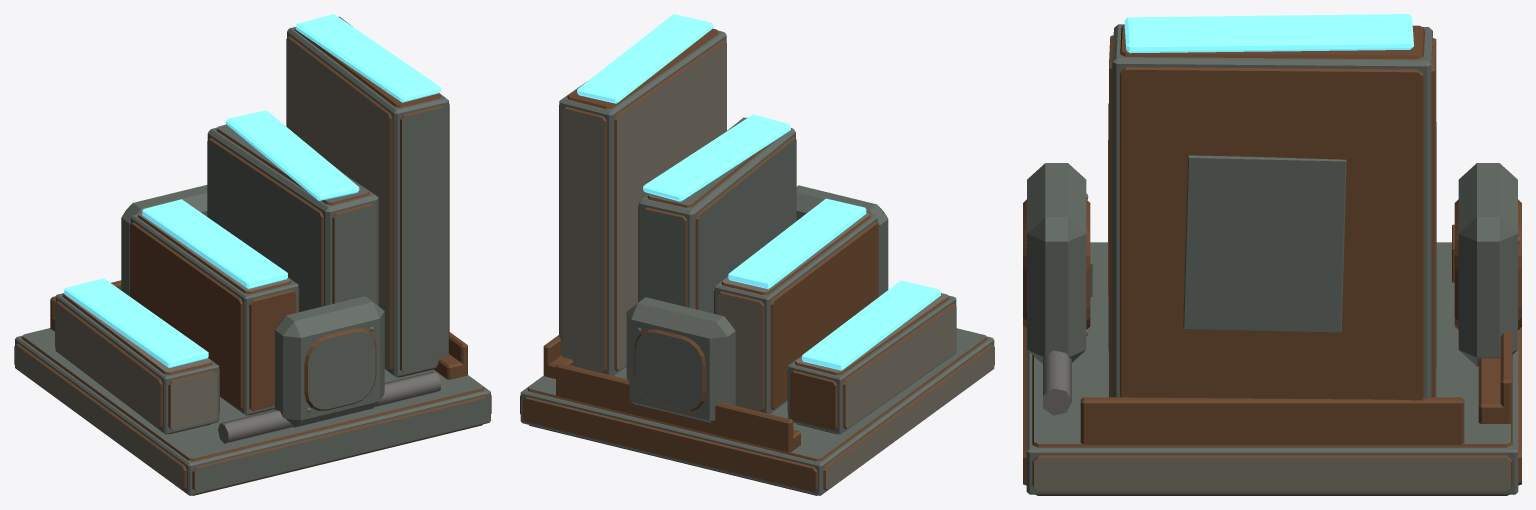
The model's file is R4X_ModuleAmplifier.fbx.
The picture shows the model from 3 angles, left to right: view 1: azimuth 30°, elevation 25°; view 2: azimuth 150°, elevation 25°; view 3: azimuth 270°, elevation 25°; orthographic projection. The views are drawn at different scales.
Parts seen in each view (by area): view 1: R4X_ModuleAmplifier_Body; view 2: R4X_ModuleAmplifier_Body; view 3: R4X_ModuleAmplifier_Body.
Boxes of the visible parts, box(x1,y1,x2,y2) form: R4X_ModuleAmplifier_Body: box(14, 14, 491, 495); R4X_ModuleAmplifier_Body: box(520, 14, 994, 495); R4X_ModuleAmplifier_Body: box(1023, 14, 1521, 495).
Size of the model in its own units: 0.52 by 0.512 by 0.52.
